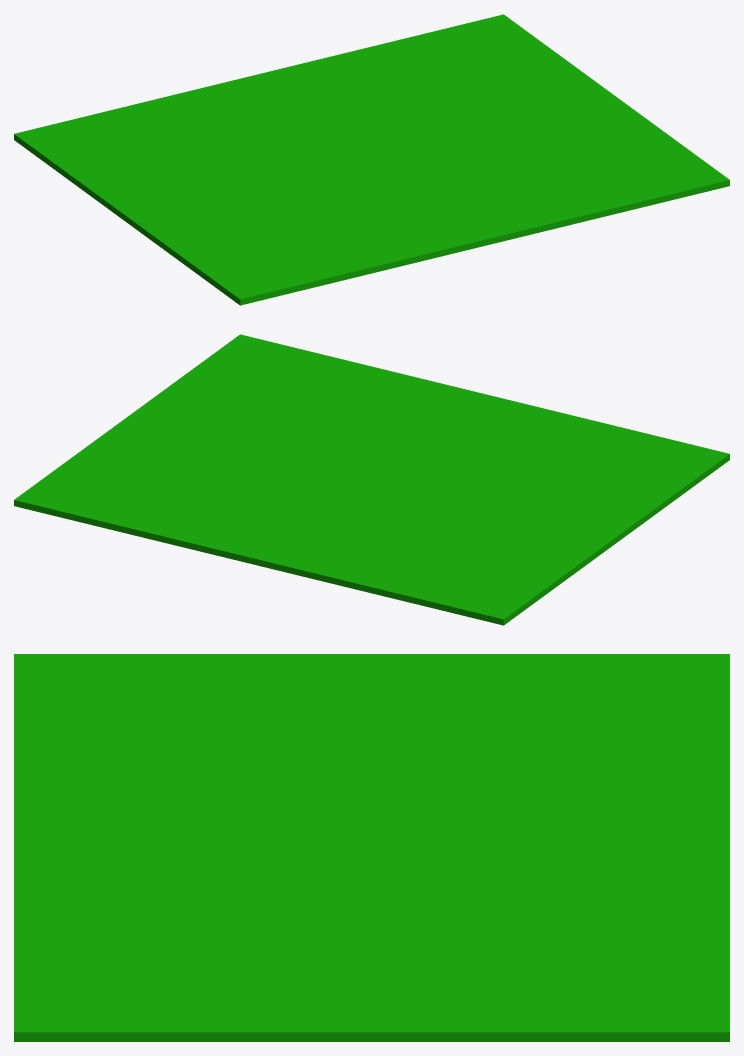
File: suelo_coloreado.dae
The picture shows the model from 3 angles, top to bottom: view 1: azimuth 30°, elevation 25°; view 2: azimuth 150°, elevation 25°; view 3: azimuth 270°, elevation 25°; orthographic projection. The views are drawn at different scales.
Visible parts, largest first — view 1: node0; view 2: node0; view 3: node0.
Boxes of the visible parts, x1,y1,x2,y2 form: node0: (14, 14, 729, 305); node0: (14, 334, 729, 625); node0: (14, 654, 729, 1041).
Bounding box in the file's own units: 2500 × 2000 × 30.
